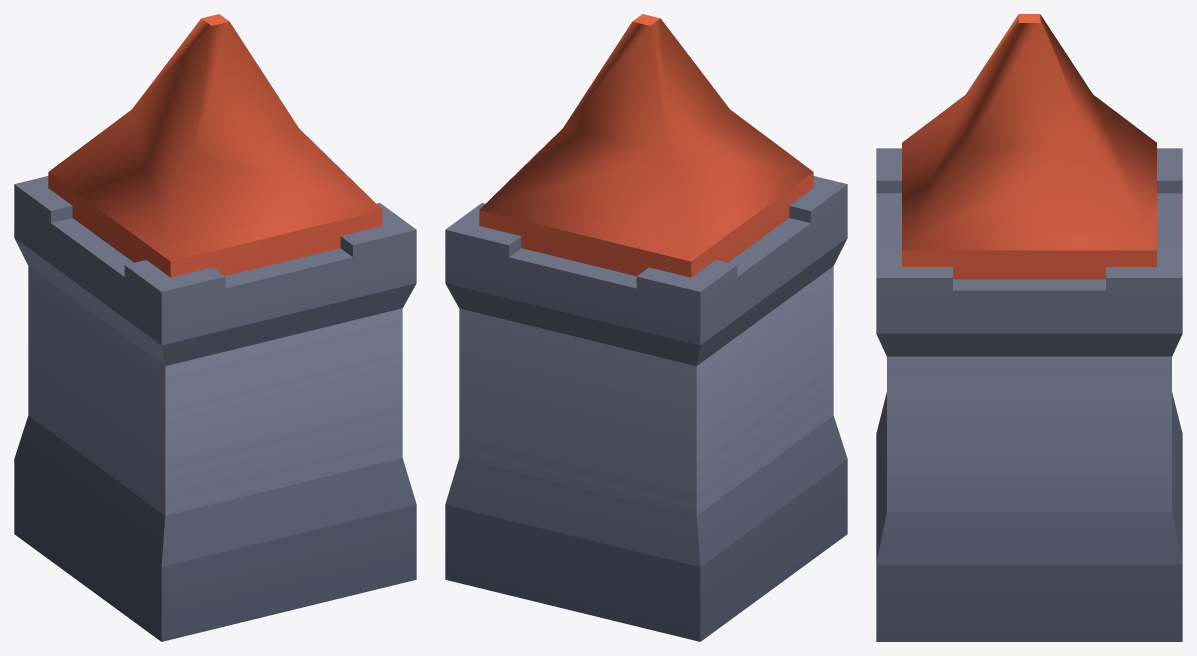
The model's file is tower-square-roof.fbx.
The picture shows the model from 3 angles, left to right: view 1: azimuth 30°, elevation 25°; view 2: azimuth 150°, elevation 25°; view 3: azimuth 270°, elevation 25°; orthographic projection. The views are drawn at different scales.
Visible parts, largest first — view 1: tower-square-roof; view 2: tower-square-roof; view 3: tower-square-roof.
Part boxes in pixels (bbox=[...]): tower-square-roof: bbox=[14, 14, 416, 641]; tower-square-roof: bbox=[445, 14, 847, 641]; tower-square-roof: bbox=[876, 14, 1182, 641].
Bounding box in the file's own units: 1 × 1 × 2.01.
